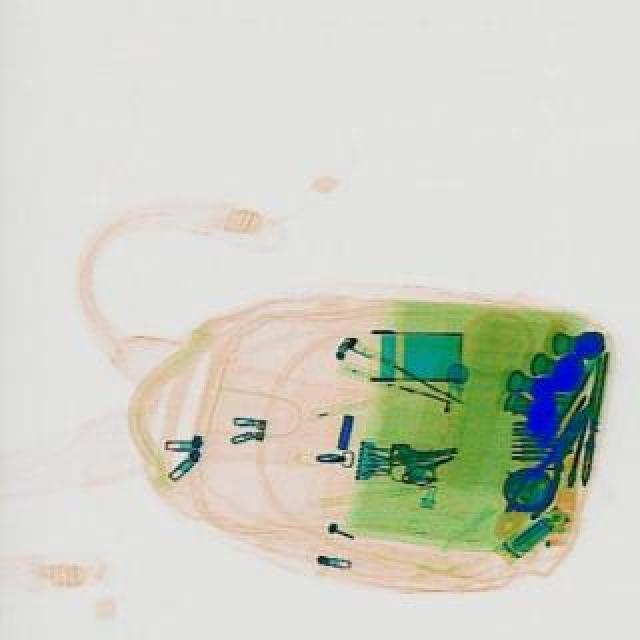wrench: (500, 392, 604, 526)
